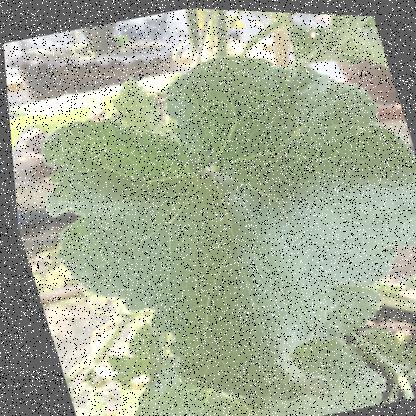Normal: (1, 20, 415, 415)
